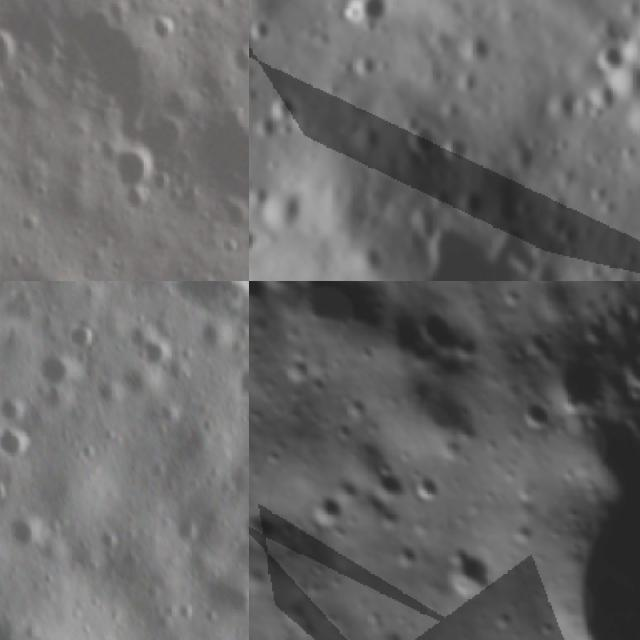crater: (54, 0, 161, 130), (405, 210, 545, 281), (173, 105, 249, 220), (407, 289, 494, 385), (430, 534, 508, 612), (540, 344, 616, 424), (99, 144, 170, 211), (251, 176, 312, 238), (166, 281, 249, 322), (394, 109, 449, 167), (584, 33, 638, 84), (578, 71, 628, 120), (509, 389, 557, 440), (302, 486, 351, 534), (364, 461, 412, 510), (266, 86, 314, 131), (346, 0, 404, 35), (0, 420, 36, 474), (404, 469, 448, 511), (436, 128, 476, 174), (5, 516, 46, 560), (32, 350, 78, 389), (249, 504, 282, 550), (279, 354, 316, 392), (62, 313, 96, 354), (619, 83, 640, 145), (5, 309, 30, 361), (339, 390, 374, 427), (133, 336, 171, 370), (0, 30, 26, 79), (387, 537, 423, 572), (458, 182, 492, 218), (0, 389, 33, 426), (249, 8, 276, 50), (249, 110, 279, 145), (249, 281, 306, 299), (168, 518, 198, 550), (426, 180, 454, 209), (91, 527, 120, 554), (228, 363, 249, 398), (0, 471, 15, 511), (241, 311, 249, 344)
